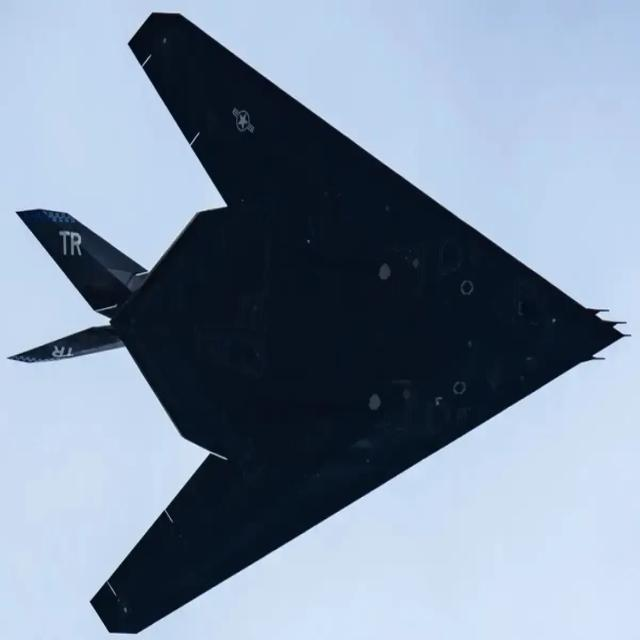F117: (0, 2, 640, 632)
